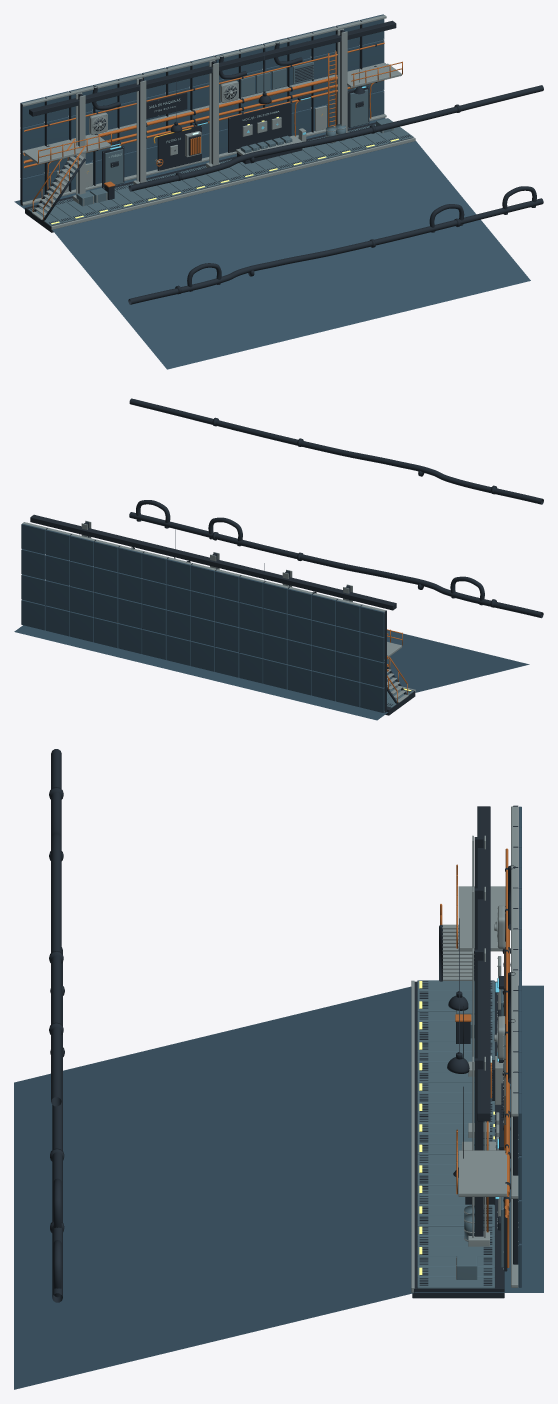
File: SalaDeMaquinas.fbx
The picture shows the model from 3 angles, top to bottom: view 1: azimuth 30°, elevation 25°; view 2: azimuth 150°, elevation 25°; view 3: azimuth 270°, elevation 25°; orthographic projection. The views are drawn at different scales.
Visible parts, largest first — view 1: Plane, Viga_superior, Tubo_silueta.001, Tubo_silueta, Reciclaje_fondo, Borde_frontal, Travesano_mural.002, Filtro14_Placa_base, Pasarela_superior, Plataforma_principal, Linea_horizontal.002, Travesano_mural.001 (+19 smaller); view 2: Plane, Viga_superior, Tubo_silueta.001, Tubo_silueta, Travesano_mural.002, Panel_mural.015, Panel_mural.043, Panel_mural.003, Panel_mural.023, Panel_mural.051, Panel_mural.007, Panel_mural.011 (+53 smaller); view 3: Plane, Viga_superior, Tubo_silueta.001, Plataforma_principal, Travesano_mural.002, Pasarela_superior.001, Pasarela_superior, Tubo_silueta, Borde_frontal, Columna_viga_H.003, Linea_horizontal.003, Baldosa_pasarela.029 (+2 smaller).
Part boxes in pixels (box(x1,y1,x2,y2)): Plane: box(14, 117, 530, 369); Viga_superior: box(29, 20, 396, 116); Tubo_silueta.001: box(128, 85, 543, 191); Tubo_silueta: box(128, 198, 543, 304); Reciclaje_fondo: box(228, 102, 291, 152); Borde_frontal: box(51, 137, 415, 229); Travesano_mural.002: box(22, 15, 386, 106); Filtro14_Placa_base: box(157, 125, 201, 170); Pasarela_superior: box(24, 134, 110, 164); Plataforma_principal: box(25, 122, 413, 232); Linea_horizontal.002: box(23, 76, 337, 155); Travesano_mural.001: box(22, 62, 385, 154); Plane: box(14, 609, 529, 720); Viga_superior: box(30, 514, 396, 610); Tubo_silueta.001: box(129, 398, 543, 504); Tubo_silueta: box(129, 512, 543, 618); Travesano_mural.002: box(22, 522, 386, 613); Panel_mural.015: box(287, 588, 311, 619); Panel_mural.043: box(118, 547, 142, 577); Panel_mural.003: box(360, 606, 384, 636); Panel_mural.023: box(239, 577, 263, 607); Panel_mural.051: box(69, 535, 93, 566); Panel_mural.007: box(336, 600, 360, 631); Panel_mural.011: box(311, 594, 336, 625); Plane: box(14, 985, 543, 1389); Viga_superior: box(477, 806, 490, 1121); Tubo_silueta.001: box(51, 749, 61, 1106); Plataforma_principal: box(412, 981, 504, 1298); Travesano_mural.002: box(511, 806, 518, 1116); Pasarela_superior.001: box(458, 1150, 506, 1196); Pasarela_superior: box(458, 886, 505, 951); Tubo_silueta: box(52, 947, 62, 1302); Borde_frontal: box(411, 980, 414, 1292); Columna_viga_H.003: box(474, 1058, 483, 1236); Linea_horizontal.003: box(505, 848, 508, 1154); Baldosa_pasarela.029: box(417, 1277, 494, 1288).
Bounding box in the file's own units: 3400 × 1450 × 2188.
